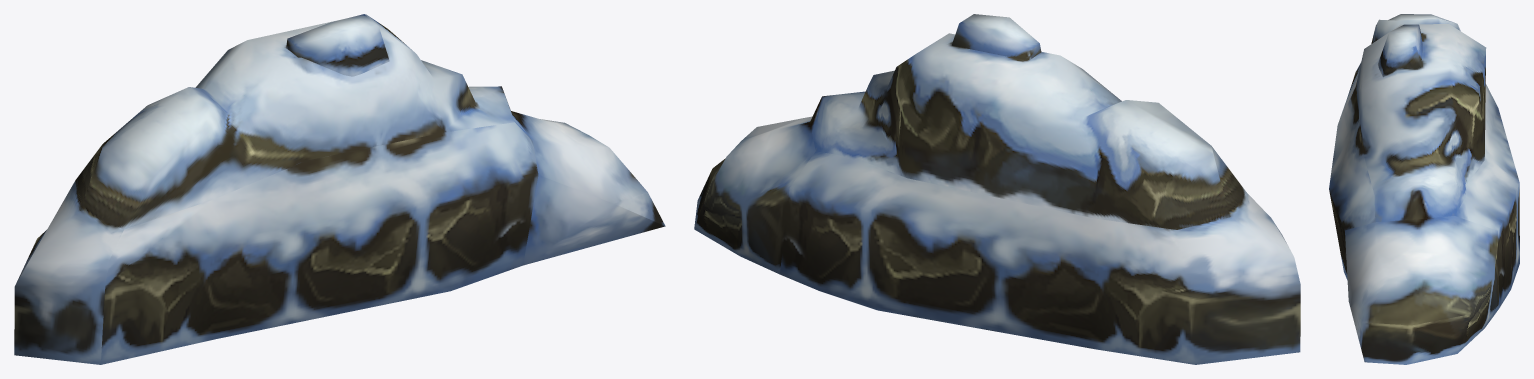
File: ShiTou05.FBX
The picture shows the model from 3 angles, left to right: view 1: azimuth 30°, elevation 25°; view 2: azimuth 150°, elevation 25°; view 3: azimuth 270°, elevation 25°; orthographic projection. The views are drawn at different scales.
Parts seen in each view (by area): view 1: ShiTou05; view 2: ShiTou05; view 3: ShiTou05.
Part boxes in pixels (<box>): ShiTou05: <box>14,14,665,364</box>; ShiTou05: <box>694,14,1300,364</box>; ShiTou05: <box>1329,14,1519,364</box>.
Size of the model in its own units: 463 by 181 by 150.
